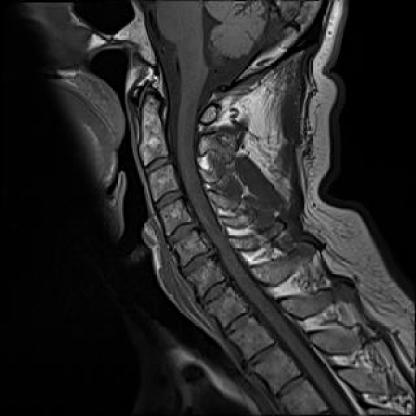Disc Bulgerotation: (175, 253, 220, 271), (162, 222, 202, 242)
Disc Protrusionrotation: (151, 189, 187, 208)
